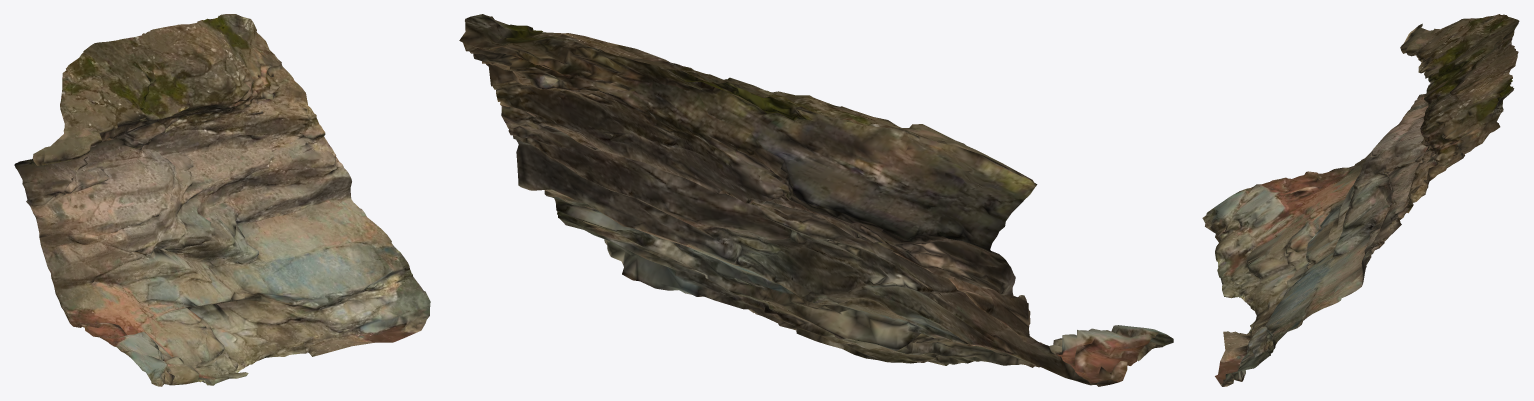
Rendered from rock_face_01.glb.
The picture shows the model from 3 angles, left to right: view 1: azimuth 30°, elevation 25°; view 2: azimuth 150°, elevation 25°; view 3: azimuth 270°, elevation 25°; orthographic projection. The views are drawn at different scales.
Parts seen in each view (by area): view 1: rock_face_01; view 2: rock_face_01; view 3: rock_face_01.
Boxes of the visible parts, x1,y1,x2,y2 form: rock_face_01: (14,14,430,386); rock_face_01: (459,14,1173,386); rock_face_01: (1202,14,1519,386).
Bounding box in the file's own units: 4.95 × 3.56 × 3.83.
1 material, 1 textured.
